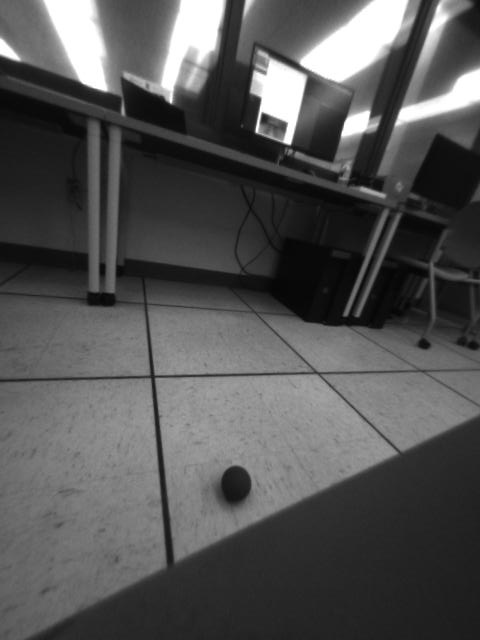dogtoy: (213, 458, 261, 506)
